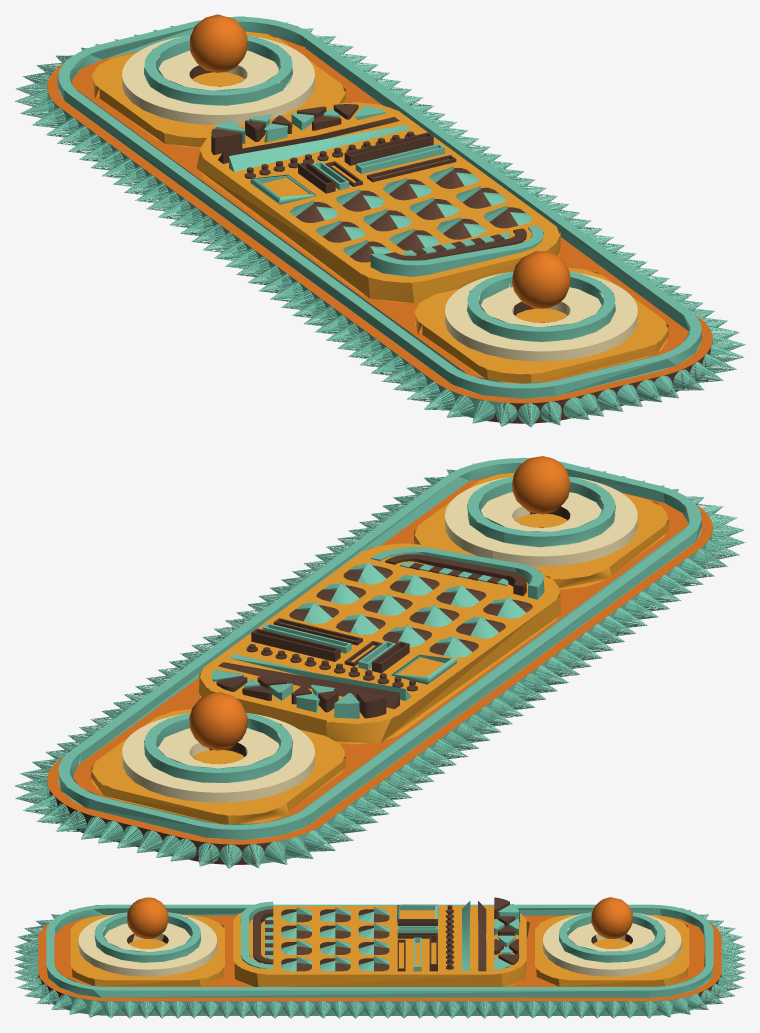
Rendered from DJSET-RETRO-v40.glb.
The picture shows the model from 3 angles, top to bottom: view 1: azimuth 30°, elevation 25°; view 2: azimuth 150°, elevation 25°; view 3: azimuth 270°, elevation 25°; orthographic projection. The views are drawn at different scales.
Parts seen in each view (by area): view 1: DJSET-RED; view 2: DJSET-RED; view 3: DJSET-RED.
Boxes of the visible parts, x1,y1,x2,y2 form: DJSET-RED: (15, 14, 745, 427); DJSET-RED: (14, 456, 745, 868); DJSET-RED: (14, 897, 745, 1018).
Bounding box in the file's own units: 0.6638 × 0.1922 × 1.82.
1 material, 1 textured.
